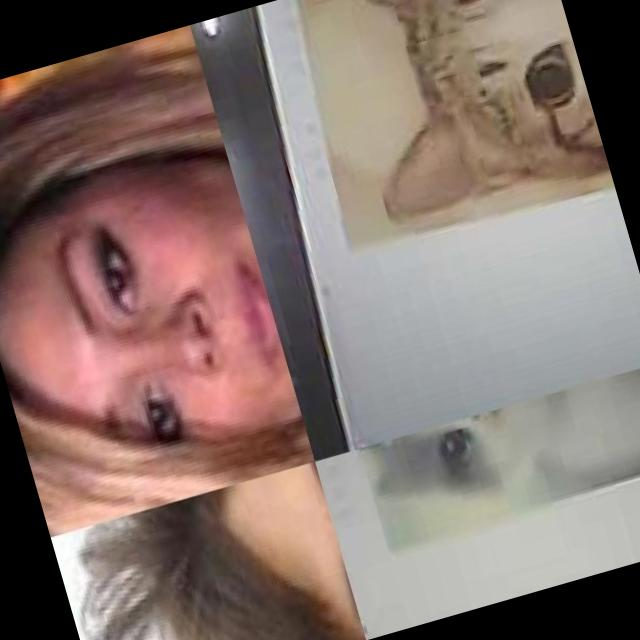bareface: (0, 127, 306, 526)
